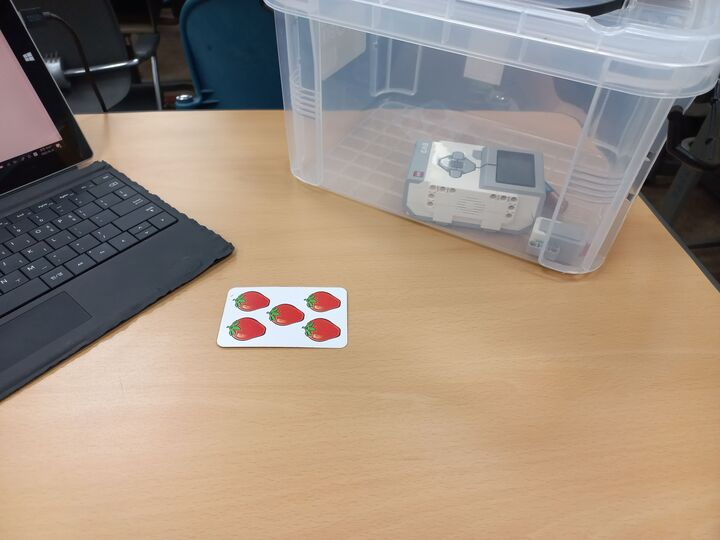strawberry5: (216, 285, 353, 351)
